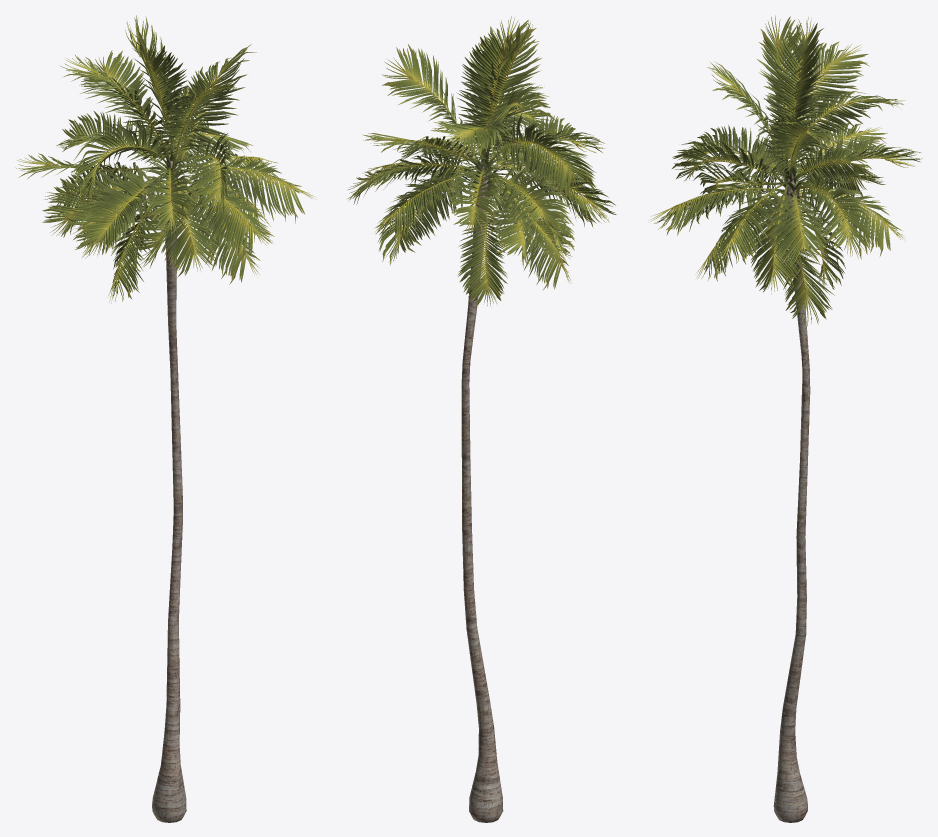
Rendered from tree4.glb.
The picture shows the model from 3 angles, left to right: view 1: azimuth 30°, elevation 25°; view 2: azimuth 150°, elevation 25°; view 3: azimuth 270°, elevation 25°; orthographic projection.
Parts seen in each view (by area): view 1: Coconut-tree; view 2: Coconut-tree; view 3: Coconut-tree.
Part boxes in pixels (x1,y1,x2,y2): Coconut-tree: (15, 15, 314, 822); Coconut-tree: (347, 16, 616, 822); Coconut-tree: (648, 15, 922, 822).
Size of the model in its own units: 477 by 1565 by 500.
2 materials, 2 textured.
